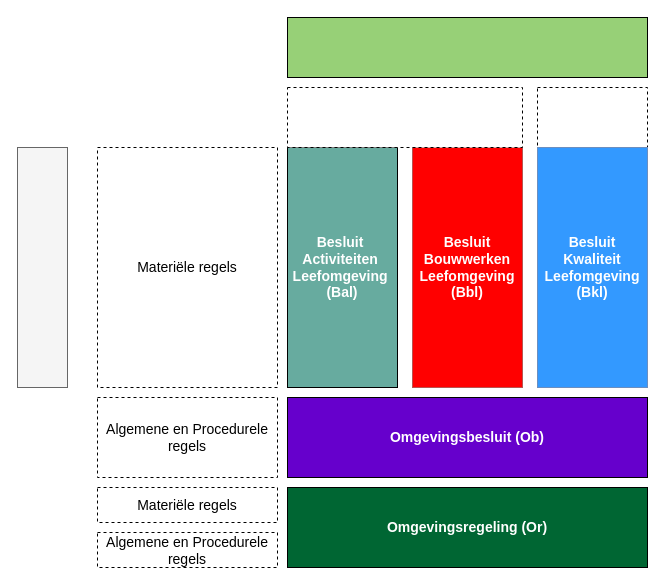
The diagram is 665 pixels wide and 585 high, and some of its shapes have lost their labels. Each missing label, with the box of its shape:
Algemene Maatregelen van Bestuur (AMvB's): (16, 146, 68, 388)
Burgers en bedrijven: (286, 86, 522, 148)
Omgevingswet: (286, 16, 648, 78)
Overheid: (536, 86, 648, 148)
